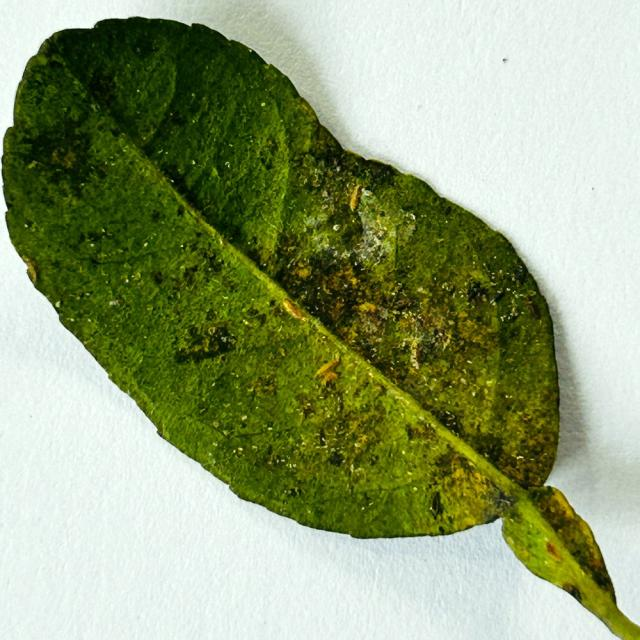Bacterial_Blight: (17, 122, 95, 193), (346, 187, 412, 264), (298, 248, 358, 314), (489, 428, 553, 486), (152, 155, 201, 209), (465, 269, 526, 312), (348, 304, 397, 357), (87, 66, 131, 119), (180, 326, 240, 363), (451, 305, 492, 345), (307, 241, 351, 275), (413, 325, 447, 367), (243, 240, 277, 271), (432, 408, 463, 438), (248, 373, 279, 402), (226, 421, 269, 440), (78, 228, 115, 250), (239, 303, 269, 327), (177, 261, 204, 287), (316, 356, 342, 383), (491, 488, 517, 511), (466, 281, 490, 305), (88, 253, 124, 268), (391, 296, 419, 315), (282, 298, 305, 320), (590, 568, 611, 591), (404, 423, 429, 442), (22, 256, 39, 283), (429, 491, 444, 519), (545, 540, 563, 561), (168, 110, 188, 128), (303, 213, 324, 230), (512, 264, 528, 286), (299, 402, 317, 421), (327, 450, 346, 467), (565, 583, 582, 602), (209, 421, 229, 437), (266, 452, 285, 468), (295, 264, 312, 279), (469, 269, 487, 283), (295, 408, 307, 429), (285, 486, 302, 498), (74, 291, 92, 302), (352, 467, 366, 480), (153, 270, 165, 285), (331, 156, 342, 172), (150, 209, 162, 222), (262, 158, 274, 171), (23, 219, 36, 230), (209, 166, 220, 179), (378, 308, 390, 319), (520, 414, 532, 424), (90, 102, 100, 113), (265, 421, 275, 431), (321, 189, 329, 201), (208, 326, 216, 336), (438, 526, 446, 534)
Lemon: (0, 17, 639, 639)
